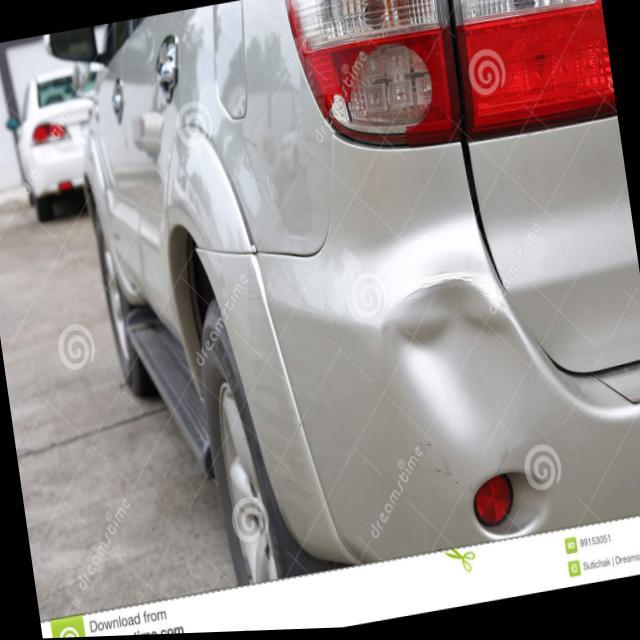Dent: (367, 255, 532, 453)
